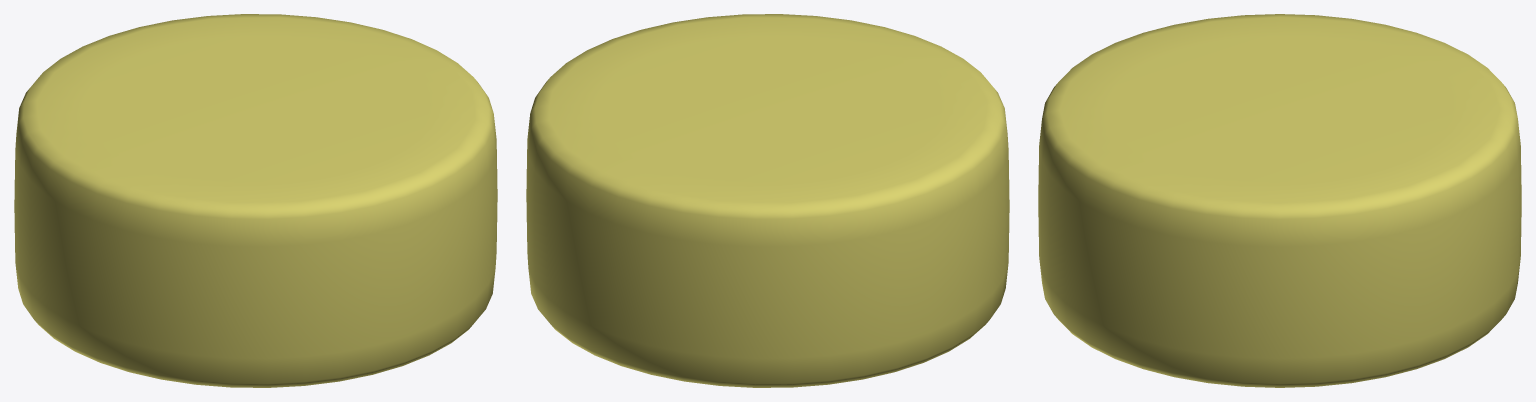
File: RoundedCheese01.fbx
The picture shows the model from 3 angles, left to right: view 1: azimuth 30°, elevation 25°; view 2: azimuth 150°, elevation 25°; view 3: azimuth 270°, elevation 25°; orthographic projection.
Parts seen in each view (by area): view 1: RoundedCheese01; view 2: RoundedCheese01; view 3: RoundedCheese01.
Part boxes in pixels (<box>): RoundedCheese01: <box>14,14,497,387</box>; RoundedCheese01: <box>526,14,1009,387</box>; RoundedCheese01: <box>1038,14,1521,387</box>.
Size of the model in its own units: 842 by 355 by 842.
